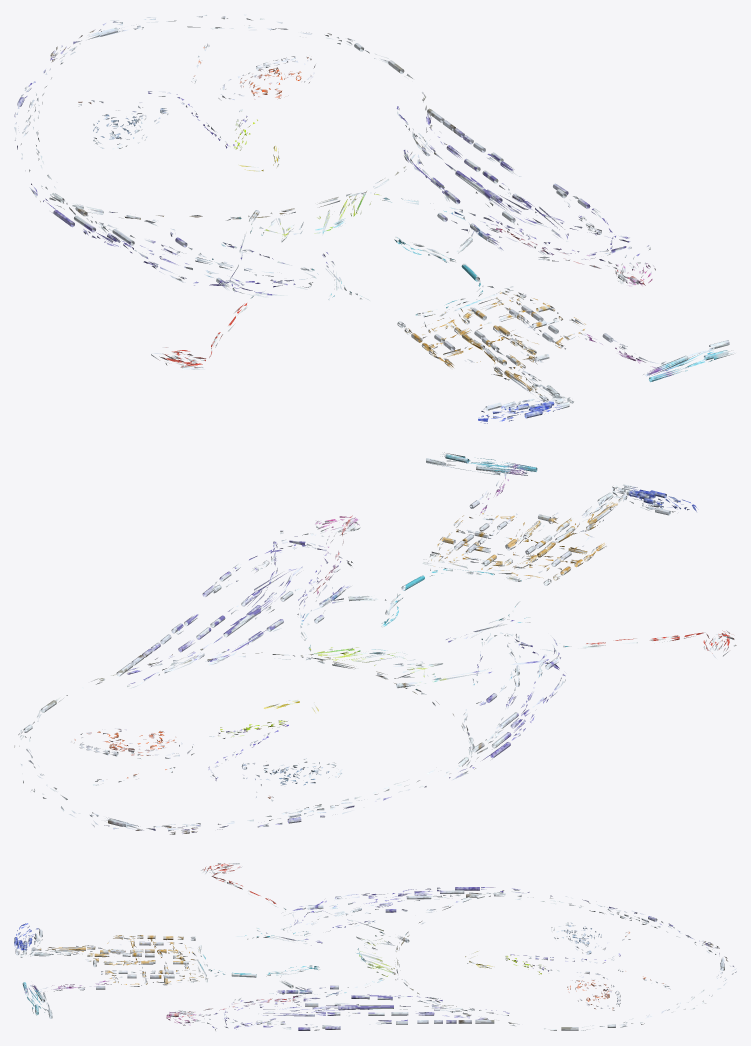
Rendered from Daxue.glb.
The picture shows the model from 3 angles, top to bottom: view 1: azimuth 30°, elevation 25°; view 2: azimuth 150°, elevation 25°; view 3: azimuth 270°, elevation 25°; orthographic projection. The views are drawn at different scales.
Parts seen in each view (by area): view 1: node_id4; view 2: node_id4; view 3: node_id4.
Part boxes in pixels (bbox=[...]): node_id4: bbox=[14, 14, 734, 423]; node_id4: bbox=[14, 452, 736, 834]; node_id4: bbox=[14, 863, 736, 1030].
Size of the model in its own units: 0.2542 by 0.00253 by 0.4635.
1 material, 1 textured.
